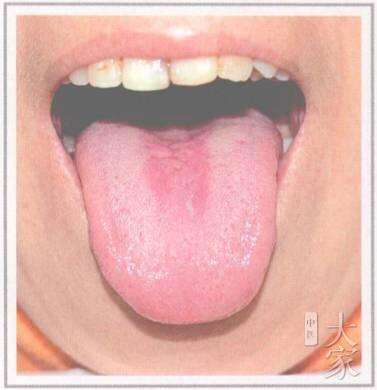baitaishe: (73, 109, 282, 324)
hongshe: (73, 109, 282, 324)
